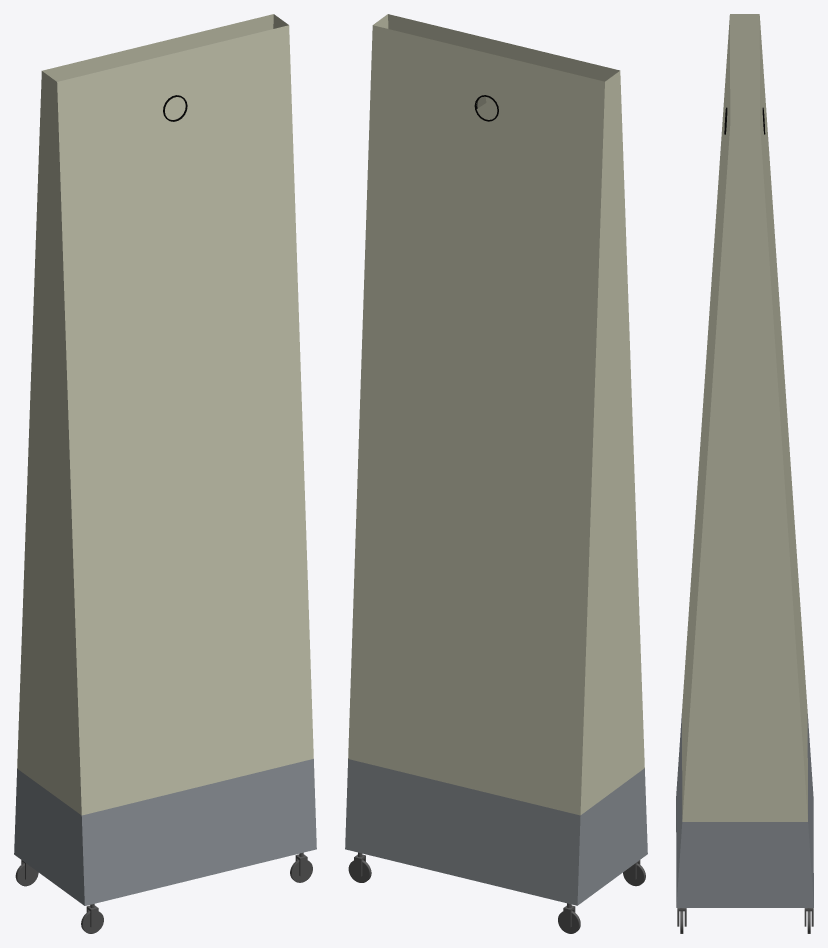
The model's file is IKEA-Marek_Floor_Lamp-3D.DAE.
3 renders of one model, left to right at view 1: azimuth 30°, elevation 25°; view 2: azimuth 150°, elevation 25°; view 3: azimuth 270°, elevation 25°, orthographic. The views are drawn at different scales.
Parts seen in each view (by area): view 1: Cylinder01; view 2: Cylinder01; view 3: Cylinder01.
Boxes of the visible parts, x1,y1,x2,y2 form: Cylinder01: [14, 14, 316, 933]; Cylinder01: [345, 14, 647, 933]; Cylinder01: [676, 14, 813, 933].
Size of the model in its own units: 466 by 1601 by 246.
